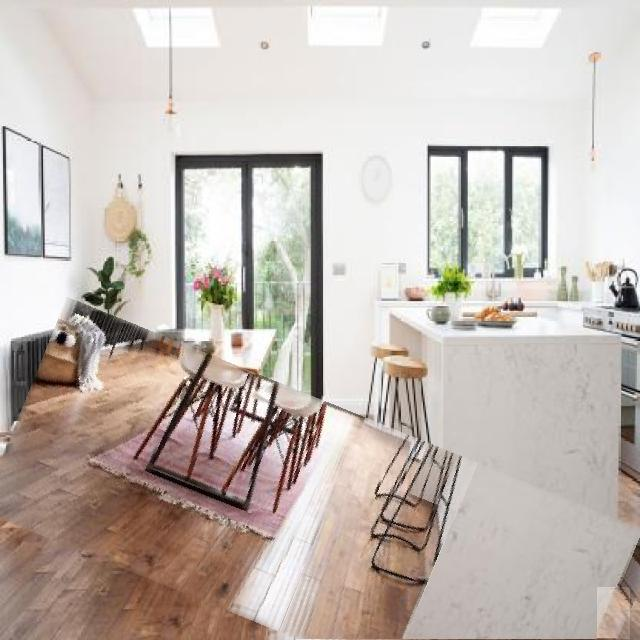floor: (0, 344, 417, 640), (598, 588, 630, 639)
